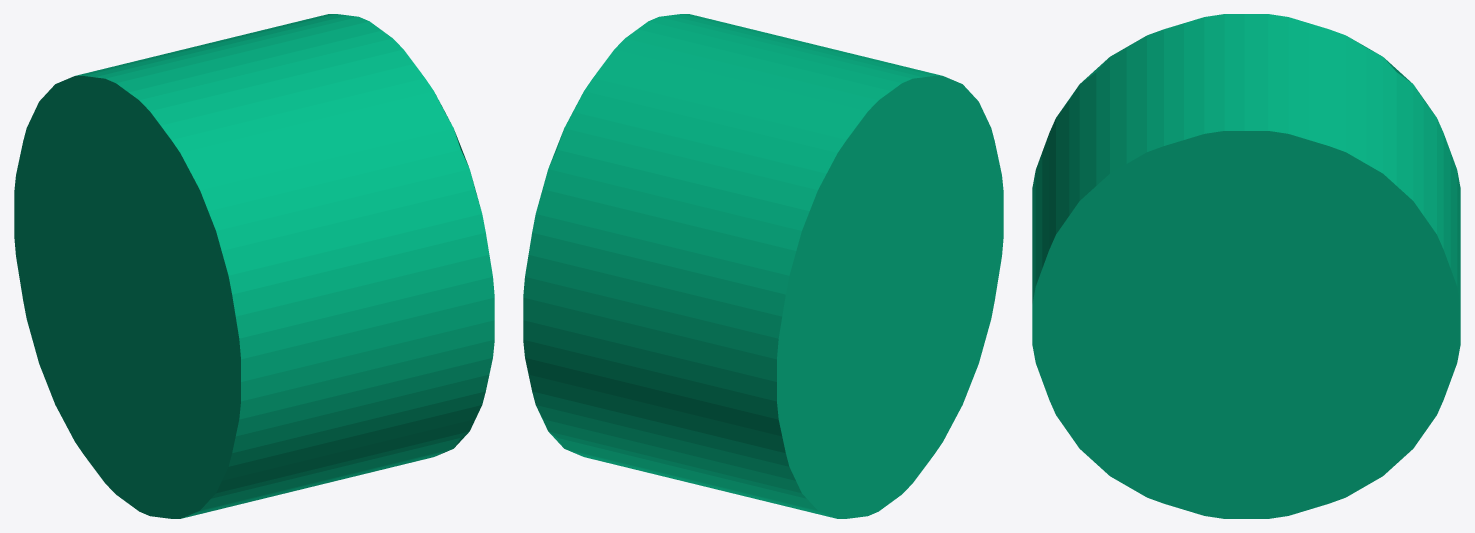
The picture shows the model from 3 angles, left to right: view 1: azimuth 30°, elevation 25°; view 2: azimuth 150°, elevation 25°; view 3: azimuth 270°, elevation 25°; orthographic projection. The views are drawn at different scales.
Size of the model in its own units: 0.1087 by 0.1683 by 0.1683.
